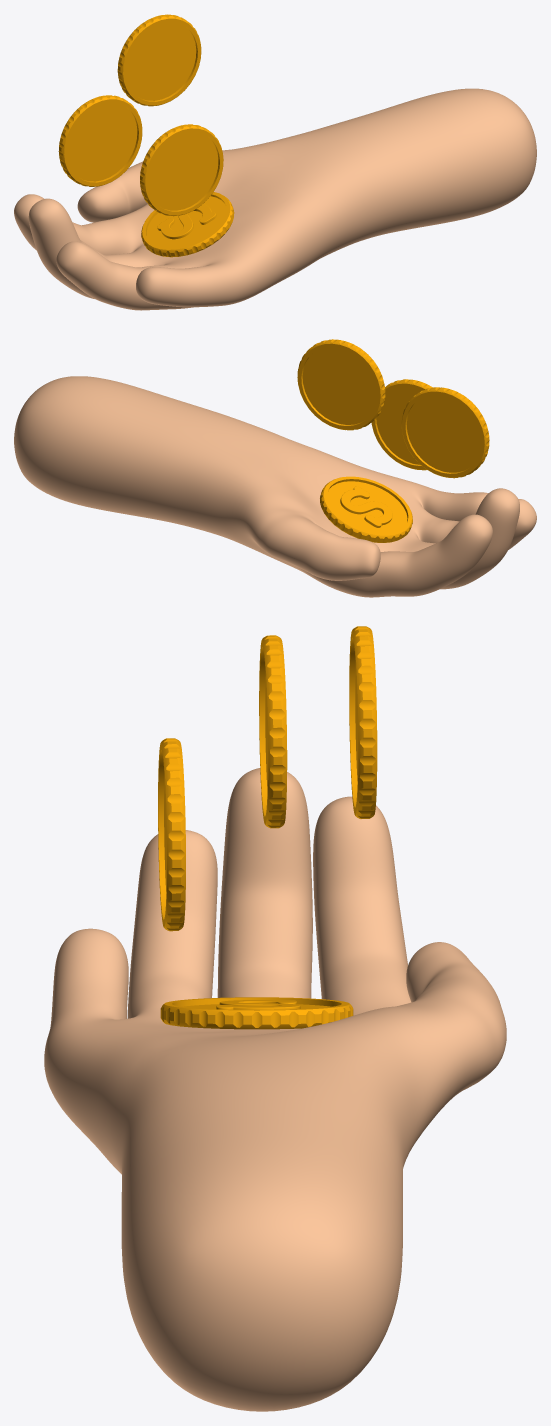
The model's file is donation.glb.
The picture shows the model from 3 angles, top to bottom: view 1: azimuth 30°, elevation 25°; view 2: azimuth 150°, elevation 25°; view 3: azimuth 270°, elevation 25°; orthographic projection. The views are drawn at different scales.
Visible parts, largest first — view 1: hand.001, coin_S.004, coin_S.002, coin_S.003, coin_S.001; view 2: hand.001, coin_S.004, coin_S.002, coin_S.001, coin_S.003; view 3: hand.001, coin_S.001, coin_S.004, coin_S.002, coin_S.003.
Part boxes in pixels (<box>): hand.001: <box>14,88,536,310</box>; coin_S.004: <box>117,14,201,106</box>; coin_S.002: <box>58,95,142,186</box>; coin_S.003: <box>140,124,223,216</box>; coin_S.001: <box>141,192,234,257</box>; hand.001: <box>14,376,536,597</box>; coin_S.004: <box>297,339,385,430</box>; coin_S.002: <box>401,387,489,478</box>; coin_S.001: <box>320,476,412,542</box>; coin_S.003: <box>371,379,432,470</box>; hand.001: <box>44,768,506,1411</box>; coin_S.001: <box>160,997,353,1029</box>; coin_S.004: <box>349,626,377,818</box>; coin_S.002: <box>259,635,287,828</box>; coin_S.003: <box>158,738,185,931</box>.
Bounding box in the file's own units: 0.3635 × 0.179 × 0.1475.
